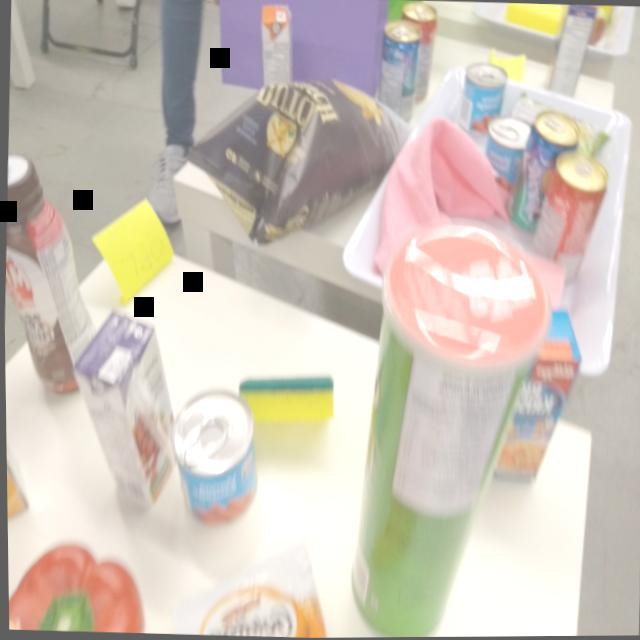cereal: (489, 305, 583, 490)
chocolate_drink: (2, 148, 97, 410)
coke: (533, 152, 610, 285)
crackers: (165, 533, 335, 639)
grape_juice: (64, 302, 178, 521)
paprika: (6, 533, 150, 634)
potato_chips: (178, 69, 417, 259)
pringles: (337, 215, 557, 638)
sausages: (163, 384, 266, 532), (454, 60, 512, 138), (480, 118, 537, 187)
scrubby: (229, 364, 341, 434)
sprite: (507, 111, 582, 232)
